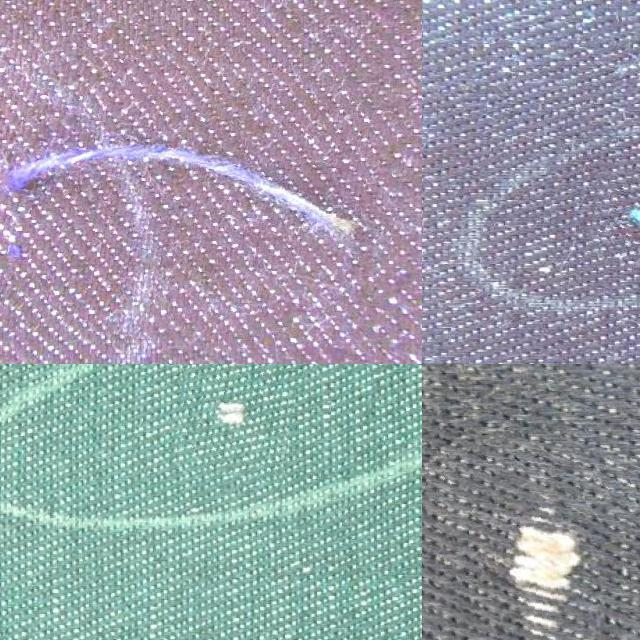stains: (0, 47, 404, 355), (422, 435, 640, 640), (172, 364, 295, 479), (590, 159, 640, 275)
